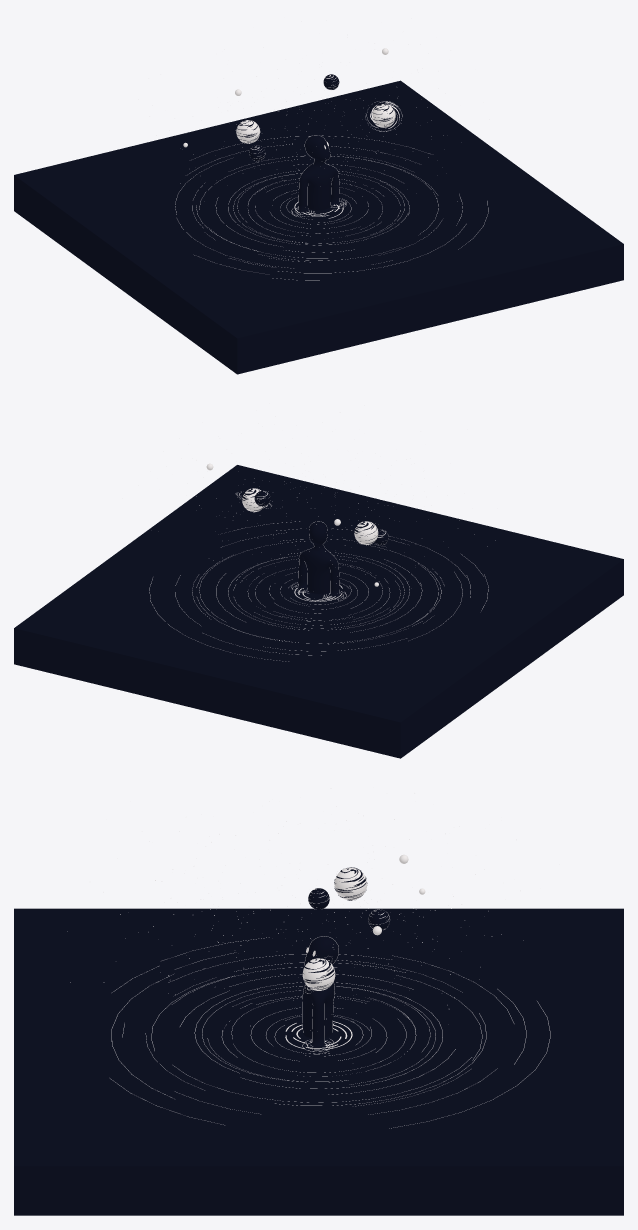
The model's file is space_boi-DBmRv9wa.glb.
The picture shows the model from 3 angles, top to bottom: view 1: azimuth 30°, elevation 25°; view 2: azimuth 150°, elevation 25°; view 3: azimuth 270°, elevation 25°; orthographic projection. The views are drawn at different scales.
Parts seen in each view (by area): view 1: Cube, body, waves; view 2: Cube, body, waves; view 3: Cube, waves, body, Sphere001, Sphere006.
Boxes of the visible parts, <box> form: Cube: <box>14,80,623,374</box>; body: <box>298,135,339,212</box>; waves: <box>175,135,488,280</box>; Cube: <box>14,465,623,758</box>; body: <box>298,521,339,596</box>; waves: <box>149,521,488,661</box>; Cube: <box>14,908,623,1215</box>; waves: <box>110,937,550,1128</box>; body: <box>302,936,338,1046</box>; Sphere001: <box>302,958,335,990</box>; Sphere006: <box>334,867,367,900</box>.
Bounding box in the file's own units: 22.4 × 10.35 × 22.4.
